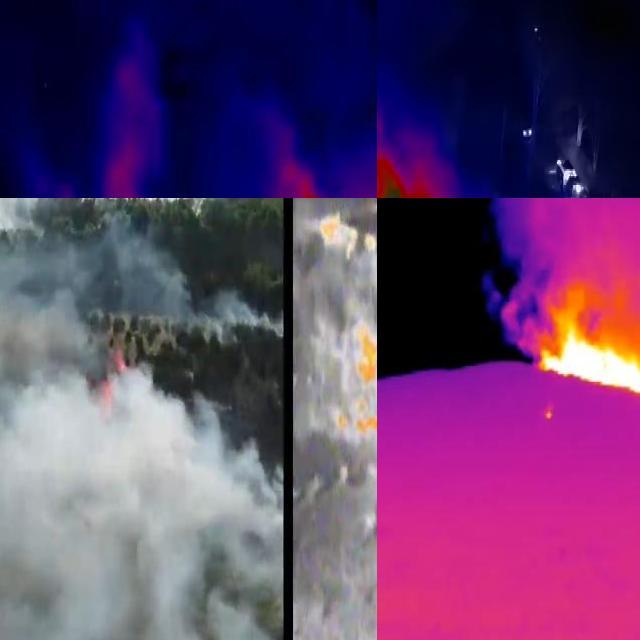fire: (529, 273, 640, 423), (319, 211, 378, 261), (112, 346, 128, 378)
